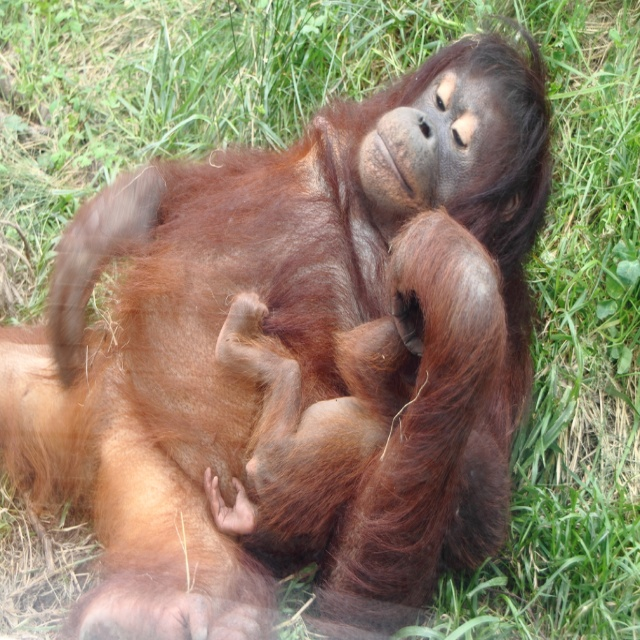Monkey: (0, 13, 561, 640), (205, 294, 510, 578)
